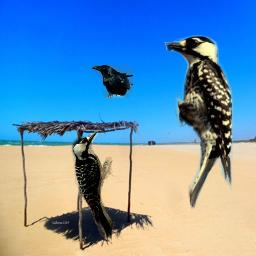Crow: (92, 65, 133, 98)
Woodpecker: (163, 35, 237, 210), (67, 128, 122, 249)
